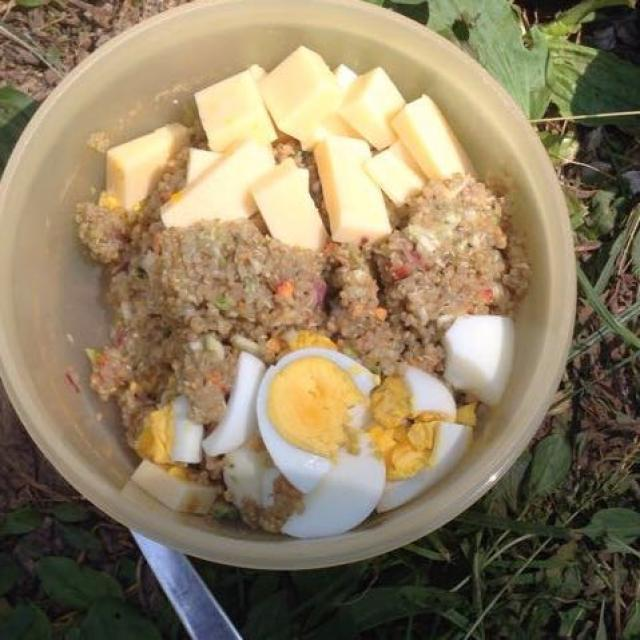cheese: (100, 45, 458, 256)
egg: (153, 312, 502, 528)
quinoa: (87, 179, 510, 432)
